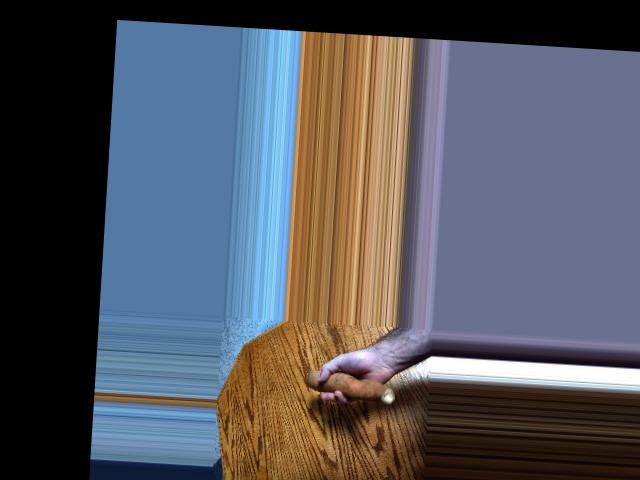sweet_potato: (296, 364, 399, 402)
